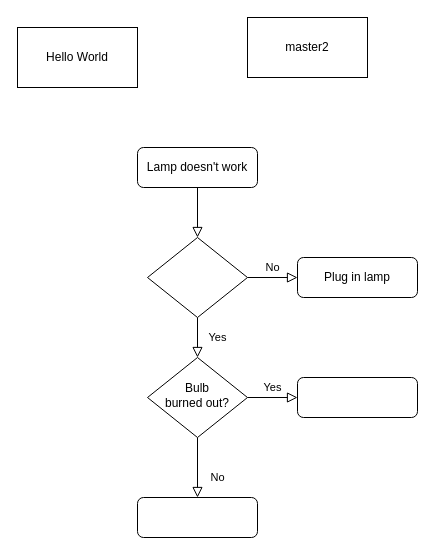
The diagram is 435 pixels wide and 555 high, and some of its shapes have lost their labels. The box of each missing label's shape, as (x1, y1, x2, y2) in pixels:
Lamp plugged in?: (146, 236, 248, 318)
Repair Lamp: (136, 496, 258, 538)
Replace Bulb: (296, 376, 418, 418)
